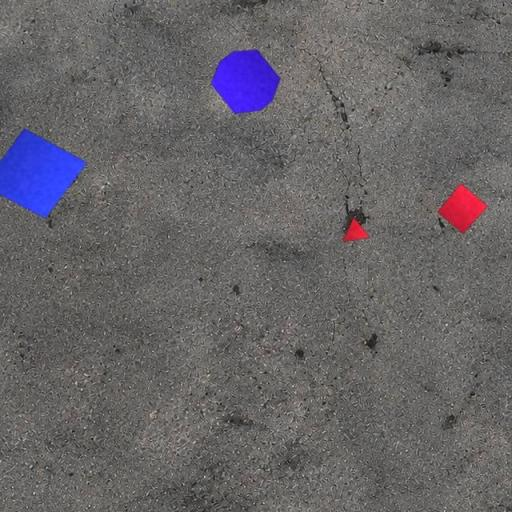BLUE_SQUARE: (0, 127, 88, 219)
RED_SQUARE: (437, 182, 489, 234)
